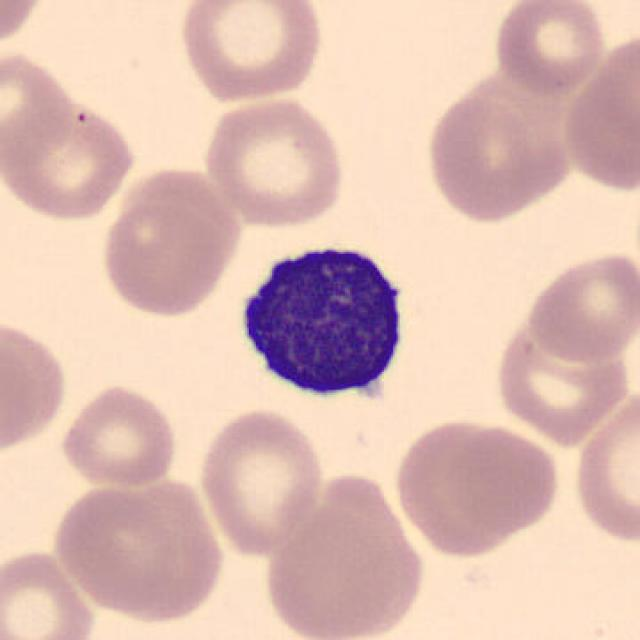Lymphocyte: (228, 228, 422, 412)
RBC: (259, 499, 425, 640), (48, 481, 204, 621), (96, 176, 240, 321), (422, 88, 574, 224), (199, 92, 349, 229), (196, 404, 327, 559), (393, 414, 526, 559), (2, 95, 140, 224), (491, 323, 633, 446), (174, 0, 327, 104), (556, 28, 640, 196), (523, 247, 638, 367), (442, 423, 564, 536), (55, 381, 181, 490), (569, 383, 638, 548), (491, 0, 608, 97), (0, 314, 71, 456), (0, 44, 76, 171), (0, 545, 98, 640), (0, 0, 48, 51)
